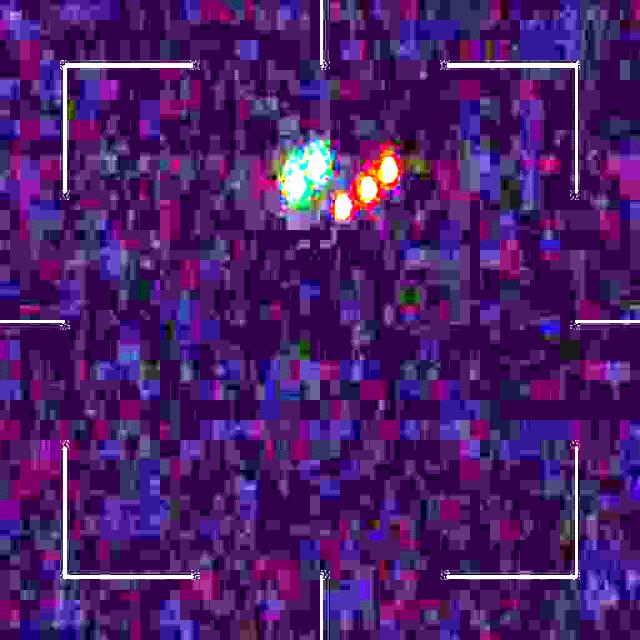bird: (288, 152, 396, 220)
